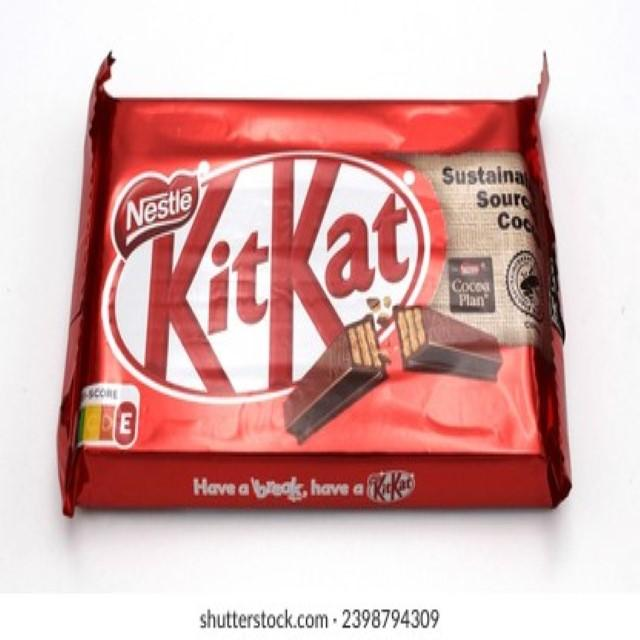kitkat_chocolate: (98, 77, 592, 513)
